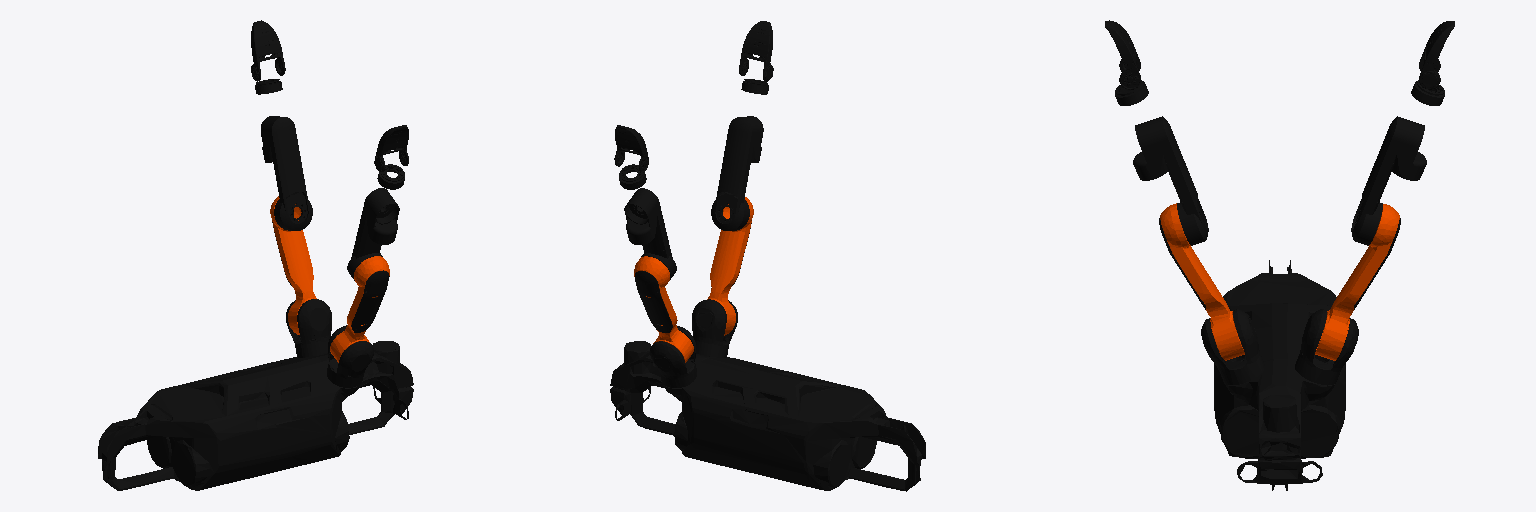
The robot description file, URDF, robot "kyon":
<?xml version="1.0" ?>
<!-- =================================================================================== -->
<!-- |    This document was autogenerated by xacro from kyon.urdf.xacro                | -->
<!-- |    EDITING THIS FILE BY HAND IS NOT RECOMMENDED                                 | -->
<!-- =================================================================================== -->
<robot name="kyon">
  <!-- scaling factor for available peack torque link side, from 0 to 1 -->
  <material name="black">
    <color rgba="0.4 0.4 0.4 1"/>
  </material>
  <material name="dark_grey">
    <color rgba="0.1 0.1 0.1 1"/>
  </material>
  <material name="light_grey">
    <color rgba="0.2 0.2 0.2 1"/>
  </material>
  <material name="kyon_orange">
    <color rgba="0.925 0.325 0.0 1"/>
  </material>
  <!-- Compound properties (i.e. based on the props parsed from the yaml) -->
  <link name="base_link"/>
  <link name="pelvis">
    <inertial>
      <origin xyz="0.056500758 0.002091838 0.086799843"/>
      <mass value="19.962822"/>
      <inertia ixx="0.24817282999999998" ixy="-0.0041644587" ixz="-0.060913554999999994" iyy="1.2563811999999999" iyz="0.00024917702" izz="1.2495441"/>
    </inertial>
    <visual>
      <origin rpy="0.0 0.0 0.0" xyz="0.0 0 0.0"/>
      <geometry>
        <mesh filename="package://kyon_urdf/meshes/mesh_pelvis.stl" scale="0.001 0.001 0.001"/>
      </geometry>
      <material name="dark_grey"/>
    </visual>
    <collision>
      <origin rpy="0.0 0.0 0.0" xyz="0.0 0 0.0"/>
      <geometry>
        <mesh filename="package://kyon_urdf/meshes/collision/mesh_pelvis.stl" scale="0.001 0.001 0.001"/>
      </geometry>
    </collision>
  </link>
  <joint name="base_joint" type="fixed">
    <parent link="pelvis"/>
    <child link="base_link"/>
    <origin rpy="0 0 0" xyz="0 0 0"/>
  </joint>
  <link name="imu_link"/>
  <joint name="imu_joint" type="fixed">
    <origin rpy="3.14159265359 0 0" xyz="-0.256190 0 0.103"/>
    <parent link="pelvis"/>
    <child link="imu_link"/>
  </joint>
  <!-- /macro arms -->
  <!-- LINKS -->
  <!-- shoulder yaw -->
  <link name="shoulder_yaw_1_link">
    <inertial>
      <origin xyz="-0.00036680683 -0.00091946646 0.039513613999999996"/>
      <mass value="0.68281255"/>
      <inertia ixx="0.0024646423" ixy="6.777069799999999e-07" ixz="-7.4060192e-06" iyy="0.0019177419999999998" iyz="-3.9949027e-05" izz="0.0019116331999999999"/>
    </inertial>
    <visual>
      <origin rpy="0.0 0.0 0.0" xyz="0.0 0.0 0.0"/>
      <geometry>
        <mesh filename="package://kyon_urdf/meshes/mesh_sh-yaw.stl" scale="0.001 0.001 0.001"/>
      </geometry>
      <material name="dark_grey"/>
    </visual>
    <collision>
      <origin rpy="0.0 0.0 0.0" xyz="0.0 0.0 0.0"/>
      <geometry>
        <mesh filename="package://kyon_urdf/meshes/collision/mesh_sh-yaw.stl" scale="0.001 0.001 0.001"/>
      </geometry>
    </collision>
  </link>
  <link name="shoulder_pitch_1_link">
    <inertial>
      <origin xyz="-7.458544400000001e-06 -0.14775681000000002 -0.0017955048000000001"/>
      <mass value="2.6972599"/>
      <inertia ixx="0.061239751999999995" ixy="-1.9752319e-05" ixz="-5.9550041e-06" iyy="0.0032676404999999998" iyz="-0.00040271622999999996" izz="0.06110526"/>
    </inertial>
    <visual>
      <geometry>
        <mesh filename="package://kyon_urdf/meshes/mesh_sh-pitch_cover.stl" scale="0.001 0.001 0.001"/>
      </geometry>
      <material name="dark_grey"/>
    </visual>
    <visual>
      <geometry>
        <mesh filename="package://kyon_urdf/meshes/mesh_sh-pitch.stl" scale="0.001 0.001 0.001"/>
      </geometry>
      <material name="kyon_orange"/>
    </visual>
    <collision>
      <geometry>
        <mesh filename="package://kyon_urdf/meshes/collision/mesh_sh-pitch.stl" scale="0.001 0.001 0.001"/>
      </geometry>
      <material name="kyon_orange"/>
    </collision>
  </link>
  <link name="elbow_pitch_1_link">
    <inertial>
      <origin xyz="-0.00032761312 -0.16511035000000002 0.022799378000000002"/>
      <mass value="1.048477"/>
      <inertia ixx="0.01112601" ixy="1.7724864e-05" ixz="6.0670899e-06" iyy="0.00095730481" iyz="-0.0010167295" izz="0.011293245999999998"/>
    </inertial>
    <visual>
      <geometry>
        <mesh filename="package://kyon_urdf/meshes/mesh_elbow.stl" scale="0.001 0.001 0.001"/>
      </geometry>
      <material name="dark_grey"/>
    </visual>
    <collision>
      <geometry>
        <mesh filename="package://kyon_urdf/meshes/mesh_elbow.stl" scale="0.001 0.001 0.001"/>
      </geometry>
    </collision>
  </link>
  <link name="wrist_pitch_1_link">
    <inertial>
      <origin xyz="-0.00035889305999999997 -0.056046555 -0.010441123"/>
      <mass value="0.8276976"/>
      <inertia ixx="0.001897925" ixy="1.5812979999999998e-05" ixz="-8.8320155e-06" iyy="0.0007269340299999999" iyz="0.00044823507999999996" izz="0.0018533680999999998"/>
    </inertial>
    <visual>
      <origin rpy="0.0 0.0 0.0" xyz="0.0 0.0 0.0"/>
      <geometry>
        <mesh filename="package://kyon_urdf/meshes/mesh_wrist-pitch.stl" scale="0.001 0.001 0.001"/>
      </geometry>
      <material name="dark_grey"/>
    </visual>
    <collision>
      <origin rpy="0.0 0.0 0.0" xyz="0.0 0.0 0.0"/>
      <geometry>
        <mesh filename="package://kyon_urdf/meshes/collision/mesh_wrist-pitch.stl" scale="0.001 0.001 0.001"/>
      </geometry>
    </collision>
  </link>
  <link name="wrist_yaw_1_link">
    <inertial>
      <origin xyz="8.3852847e-05 0.0005684798500000001 -0.018794291"/>
      <mass value="0.13163366"/>
      <inertia ixx="7.7640101e-05" ixy="-6.2563895e-07" ixz="-1.2366562e-07" iyy="7.791881799999999e-05" iyz="8.839218099999999e-07" izz="0.00012246055"/>
    </inertial>
    <visual>
      <origin rpy="0.0 0.0 0.0" xyz="0.0 0.0 0.0"/>
      <geometry>
        <mesh filename="package://kyon_urdf/meshes/mesh_wrist-yaw.stl" scale="0.001 0.001 0.001"/>
      </geometry>
      <material name="dark_grey"/>
    </visual>
    <collision>
      <origin rpy="0.0 0.0 0.0" xyz="0.0 0.0 0.0"/>
      <geometry>
        <mesh filename="package://kyon_urdf/meshes/collision/mesh_wrist-yaw.stl" scale="0.001 0.001 0.001"/>
      </geometry>
    </collision>
  </link>
  <!-- /LINKS -->
  <!-- JOINTS -->
  <!-- shoulder yaw -->
  <joint name="shoulder_yaw_1" type="revolute">
    <parent link="pelvis"/>
    <child link="shoulder_yaw_1_link"/>
    <origin rpy="-0.3490656 0.0 0.0" xyz="0.28 0.0998258 0.203238"/>
    <axis xyz="0 0 -1"/>
    <limit effort="146" lower="-3.312" upper="3.312" velocity="3.8"/>
  </joint>
  <!-- arm pitch 1 -->
  <joint name="shoulder_pitch_1" type="revolute">
    <parent link="shoulder_yaw_1_link"/>
    <child link="shoulder_pitch_1_link"/>
    <origin rpy="-1.57079632679 0.0 -3.14159265358" xyz="0.0 0.0 0.0735"/>
    <axis xyz="0 0 1"/>
    <limit effort="122" lower="-3" upper="3" velocity="4.6"/>
  </joint>
  <joint name="elbow_pitch_1" type="revolute">
    <parent link="shoulder_pitch_1_link"/>
    <child link="elbow_pitch_1_link"/>
    <origin rpy="0.0 0.0 0.0" xyz="0.0 -0.32 0.0"/>
    <axis xyz="0 0 -1"/>
    <limit effort="122" lower="-3" upper="3" velocity="4.6"/>
  </joint>
  <joint name="wrist_pitch_1" type="revolute">
    <parent link="elbow_pitch_1_link"/>
    <child link="wrist_pitch_1_link"/>
    <origin rpy="0.0 0.0 0.0" xyz="0.0 -0.25 0.0"/>
    <axis xyz="0 0 -1"/>
    <limit effort="25" lower="-2.4056" upper="2.4056" velocity="14"/>
  </joint>
  <joint name="wrist_yaw_1" type="revolute">
    <parent link="wrist_pitch_1_link"/>
    <child link="wrist_yaw_1_link"/>
    <origin rpy="1.57079632679 0.0 0.0" xyz="0.0 -0.13861199999999999 0.0"/>
    <axis xyz="0 0 1"/>
    <limit effort="25" lower="-2.4056" upper="2.4056" velocity="14"/>
  </joint>
  <link name="dagana_1_base">
    <inertial>
      <origin xyz="-0.004224466600000001 -0.0027238215 0.053670845"/>
      <mass value="0.96534359"/>
      <inertia ixx="0.0020957096" ixy="-6.455410899999999e-05" ixz="4.4955880999999996e-05" iyy="0.0021216529" iyz="0.00037094612999999995" izz="0.0011572224"/>
    </inertial>
    <visual>
      <origin rpy="0.0 0.0 0.0" xyz="0.0 0.0 0.0"/>
      <geometry>
        <mesh filename="package://kyon_urdf/meshes/mesh_dagana-base.stl" scale="0.001 0.001 0.001"/>
      </geometry>
      <material name="dark_grey"/>
    </visual>
    <collision>
      <origin rpy="0.0 0.0 0.0" xyz="0.0 0.0 0.0"/>
      <geometry>
        <mesh filename="package://kyon_urdf/meshes/collision/mesh_dagana-base-simplified.stl" scale="0.001 0.001 0.001"/>
      </geometry>
    </collision>
    <collision>
      <origin rpy="0.0 0.0 0.0" xyz="0.0 0.0 0.0"/>
      <geometry>
        <mesh filename="package://kyon_urdf/meshes/collision/mesh_dagana-base-base-simplified.stl" scale="0.001 0.001 0.001"/>
      </geometry>
    </collision>
  </link>
  <link name="dagana_1_claw">
    <inertial>
      <origin xyz="-0.0516203 0.0080601187 -0.037212096"/>
      <mass value="0.25739835"/>
      <inertia ixx="0.00029169897" ixy="8.3015178e-06" ixz="1.3355847e-05" iyy="0.00073268589" iyz="-2.1083033000000003e-06" izz="0.00051112938"/>
    </inertial>
    <visual>
      <origin rpy="0.0 0.0 0.0" xyz="0.0 0.0 0.0"/>
      <geometry>
        <mesh filename="package://kyon_urdf/meshes/mesh_dagana-clamp.stl" scale="0.001 0.001 0.001"/>
      </geometry>
      <material name="dark_grey"/>
    </visual>
    <collision>
      <origin rpy="0.0 0.0 0.0" xyz="0.0 0.0 0.0"/>
      <geometry>
        <mesh filename="package://kyon_urdf/meshes/collision/mesh_dagana-clamp-base-simplified.stl" scale="0.001 0.001 0.001"/>
      </geometry>
    </collision>
    <collision>
      <origin rpy="0.0 0.0 0.0" xyz="0.0 0.0 0.0"/>
      <geometry>
        <mesh filename="package://kyon_urdf/meshes/collision/mesh_dagana-clamp-simplified.stl" scale="0.001 0.001 0.001"/>
      </geometry>
    </collision>
  </link>
  <joint name="dagana_1_base_joint" type="fixed">
    <parent link="wrist_yaw_1_link"/>
    <child link="dagana_1_base"/>
    <origin rpy="0.0 0.0 0.0" xyz="0.0 0.0 0.0"/>
  </joint>
  <joint name="dagana_1_clamp_joint" type="revolute">
    <parent link="dagana_1_base"/>
    <child link="dagana_1_claw"/>
    <origin rpy="0.0 1.57079632679 0.0" xyz="0.0361625 0.016 0.044"/>
    <axis xyz="0 0 1"/>
    <limit effort="25" lower="-3.4056" upper="3.4056" velocity="14"/>
  </joint>
  <!-- LINKS -->
  <!-- shoulder yaw -->
  <link name="shoulder_yaw_2_link">
    <inertial>
      <origin xyz="-0.00036680683 -0.00091946646 0.039513613999999996"/>
      <mass value="0.68281255"/>
      <inertia ixx="0.0024646423" ixy="6.777069799999999e-07" ixz="-7.4060192e-06" iyy="0.0019177419999999998" iyz="-3.9949027e-05" izz="0.0019116331999999999"/>
    </inertial>
    <visual>
      <origin rpy="0.0 0.0 0.0" xyz="0.0 0.0 0.0"/>
      <geometry>
        <mesh filename="package://kyon_urdf/meshes/mesh_sh-yaw.stl" scale="0.001 0.001 0.001"/>
      </geometry>
      <material name="dark_grey"/>
    </visual>
    <collision>
      <origin rpy="0.0 0.0 0.0" xyz="0.0 0.0 0.0"/>
      <geometry>
        <mesh filename="package://kyon_urdf/meshes/collision/mesh_sh-yaw.stl" scale="0.001 0.001 0.001"/>
      </geometry>
    </collision>
  </link>
  <link name="shoulder_pitch_2_link">
    <inertial>
      <origin xyz="-7.458544400000001e-06 -0.14775681000000002 -0.0017955048000000001"/>
      <mass value="2.6972599"/>
      <inertia ixx="0.061239751999999995" ixy="-1.9752319e-05" ixz="-5.9550041e-06" iyy="0.0032676404999999998" iyz="-0.00040271622999999996" izz="0.06110526"/>
    </inertial>
    <visual>
      <geometry>
        <mesh filename="package://kyon_urdf/meshes/mesh_sh-pitch_cover.stl" scale="0.001 0.001 0.001"/>
      </geometry>
      <material name="dark_grey"/>
    </visual>
    <visual>
      <geometry>
        <mesh filename="package://kyon_urdf/meshes/mesh_sh-pitch.stl" scale="0.001 0.001 0.001"/>
      </geometry>
      <material name="kyon_orange"/>
    </visual>
    <collision>
      <geometry>
        <mesh filename="package://kyon_urdf/meshes/collision/mesh_sh-pitch.stl" scale="0.001 0.001 0.001"/>
      </geometry>
      <material name="kyon_orange"/>
    </collision>
  </link>
  <link name="elbow_pitch_2_link">
    <inertial>
      <origin xyz="-0.00032761312 -0.16511035000000002 0.022799378000000002"/>
      <mass value="1.048477"/>
      <inertia ixx="0.01112601" ixy="1.7724864e-05" ixz="6.0670899e-06" iyy="0.00095730481" iyz="-0.0010167295" izz="0.011293245999999998"/>
    </inertial>
    <visual>
      <geometry>
        <mesh filename="package://kyon_urdf/meshes/mesh_elbow.stl" scale="0.001 0.001 0.001"/>
      </geometry>
      <material name="dark_grey"/>
    </visual>
    <collision>
      <geometry>
        <mesh filename="package://kyon_urdf/meshes/mesh_elbow.stl" scale="0.001 0.001 0.001"/>
      </geometry>
    </collision>
  </link>
  <link name="wrist_pitch_2_link">
    <inertial>
      <origin xyz="-0.00035889305999999997 -0.056046555 -0.010441123"/>
      <mass value="0.8276976"/>
      <inertia ixx="0.001897925" ixy="1.5812979999999998e-05" ixz="-8.8320155e-06" iyy="0.0007269340299999999" iyz="0.00044823507999999996" izz="0.0018533680999999998"/>
    </inertial>
    <visual>
      <origin rpy="0.0 0.0 0.0" xyz="0.0 0.0 0.0"/>
      <geometry>
        <mesh filename="package://kyon_urdf/meshes/mesh_wrist-pitch.stl" scale="0.001 0.001 0.001"/>
      </geometry>
      <material name="dark_grey"/>
    </visual>
    <collision>
      <origin rpy="0.0 0.0 0.0" xyz="0.0 0.0 0.0"/>
      <geometry>
        <mesh filename="package://kyon_urdf/meshes/collision/mesh_wrist-pitch.stl" scale="0.001 0.001 0.001"/>
      </geometry>
    </collision>
  </link>
  <link name="wrist_yaw_2_link">
    <inertial>
      <origin xyz="8.3852847e-05 0.0005684798500000001 -0.018794291"/>
      <mass value="0.13163366"/>
      <inertia ixx="7.7640101e-05" ixy="-6.2563895e-07" ixz="-1.2366562e-07" iyy="7.791881799999999e-05" iyz="8.839218099999999e-07" izz="0.00012246055"/>
    </inertial>
    <visual>
      <origin rpy="0.0 0.0 0.0" xyz="0.0 0.0 0.0"/>
      <geometry>
        <mesh filename="package://kyon_urdf/meshes/mesh_wrist-yaw.stl" scale="0.001 0.001 0.001"/>
      </geometry>
      <material name="dark_grey"/>
    </visual>
    <collision>
      <origin rpy="0.0 0.0 0.0" xyz="0.0 0.0 0.0"/>
      <geometry>
        <mesh filename="package://kyon_urdf/meshes/collision/mesh_wrist-yaw.stl" scale="0.001 0.001 0.001"/>
      </geometry>
    </collision>
  </link>
  <!-- /LINKS -->
  <!-- JOINTS -->
  <!-- shoulder yaw -->
  <joint name="shoulder_yaw_2" type="revolute">
    <parent link="pelvis"/>
    <child link="shoulder_yaw_2_link"/>
    <origin rpy="0.3490656 0.0 0.0" xyz="0.28 -0.0998258 0.203238"/>
    <axis xyz="0 0 -1"/>
    <limit effort="146" lower="-3.3458" upper="3.3458" velocity="3.8"/>
  </joint>
  <!-- arm pitch 1 -->
  <joint name="shoulder_pitch_2" type="revolute">
    <parent link="shoulder_yaw_2_link"/>
    <child link="shoulder_pitch_2_link"/>
    <origin rpy="-1.57079632679 0.0 0.0" xyz="0.0 0.0 0.0735"/>
    <axis xyz="0 0 1"/>
    <limit effort="122" lower="-3" upper="3" velocity="4.6"/>
  </joint>
  <joint name="elbow_pitch_2" type="revolute">
    <parent link="shoulder_pitch_2_link"/>
    <child link="elbow_pitch_2_link"/>
    <origin rpy="0.0 0.0 0.0" xyz="0.0 -0.32 0.0"/>
    <axis xyz="0 0 -1"/>
    <limit effort="122" lower="-3" upper="3" velocity="4.6"/>
  </joint>
  <joint name="wrist_pitch_2" type="revolute">
    <parent link="elbow_pitch_2_link"/>
    <child link="wrist_pitch_2_link"/>
    <origin rpy="0.0 0.0 0.0" xyz="0.0 -0.25 0.0"/>
    <axis xyz="0 0 -1"/>
    <limit effort="25" lower="-2.3266" upper="2.3266" velocity="14"/>
  </joint>
  <joint name="wrist_yaw_2" type="revolute">
    <parent link="wrist_pitch_2_link"/>
    <child link="wrist_yaw_2_link"/>
    <origin rpy="1.57079632679 0.0 0.0" xyz="0.0 -0.13861199999999999 0.0"/>
    <axis xyz="0 0 1"/>
    <limit effort="25" lower="-2.3266" upper="2.3266" velocity="14"/>
  </joint>
  <link name="dagana_2_base">
    <inertial>
      <origin xyz="-0.004224466600000001 -0.0027238215 0.053670845"/>
      <mass value="0.96534359"/>
      <inertia ixx="0.0020957096" ixy="-6.455410899999999e-05" ixz="4.4955880999999996e-05" iyy="0.0021216529" iyz="0.00037094612999999995" izz="0.0011572224"/>
    </inertial>
    <visual>
      <origin rpy="0.0 0.0 0.0" xyz="0.0 0.0 0.0"/>
      <geometry>
        <mesh filename="package://kyon_urdf/meshes/mesh_dagana-base.stl" scale="0.001 0.001 0.001"/>
      </geometry>
      <material name="dark_grey"/>
    </visual>
    <collision>
      <origin rpy="0.0 0.0 0.0" xyz="0.0 0.0 0.0"/>
      <geometry>
        <mesh filename="package://kyon_urdf/meshes/collision/mesh_dagana-base-simplified.stl" scale="0.001 0.001 0.001"/>
      </geometry>
    </collision>
    <collision>
      <origin rpy="0.0 0.0 0.0" xyz="0.0 0.0 0.0"/>
      <geometry>
        <mesh filename="package://kyon_urdf/meshes/collision/mesh_dagana-base-base-simplified.stl" scale="0.001 0.001 0.001"/>
      </geometry>
    </collision>
  </link>
  <link name="dagana_2_claw">
    <inertial>
      <origin xyz="-0.0516203 0.0080601187 -0.037212096"/>
      <mass value="0.25739835"/>
      <inertia ixx="0.00029169897" ixy="8.3015178e-06" ixz="1.3355847e-05" iyy="0.00073268589" iyz="-2.1083033000000003e-06" izz="0.00051112938"/>
    </inertial>
    <visual>
      <origin rpy="0.0 0.0 0.0" xyz="0.0 0.0 0.0"/>
      <geometry>
        <mesh filename="package://kyon_urdf/meshes/mesh_dagana-clamp.stl" scale="0.001 0.001 0.001"/>
      </geometry>
      <material name="dark_grey"/>
    </visual>
    <collision>
      <origin rpy="0.0 0.0 0.0" xyz="0.0 0.0 0.0"/>
      <geometry>
        <mesh filename="package://kyon_urdf/meshes/collision/mesh_dagana-clamp-base-simplified.stl" scale="0.001 0.001 0.001"/>
      </geometry>
    </collision>
    <collision>
      <origin rpy="0.0 0.0 0.0" xyz="0.0 0.0 0.0"/>
      <geometry>
        <mesh filename="package://kyon_urdf/meshes/collision/mesh_dagana-clamp-simplified.stl" scale="0.001 0.001 0.001"/>
      </geometry>
    </collision>
  </link>
  <joint name="dagana_2_base_joint" type="fixed">
    <parent link="wrist_yaw_2_link"/>
    <child link="dagana_2_base"/>
    <origin rpy="0.0 0.0 0.0" xyz="0.0 0.0 0.0"/>
  </joint>
  <joint name="dagana_2_clamp_joint" type="revolute">
    <parent link="dagana_2_base"/>
    <child link="dagana_2_claw"/>
    <origin rpy="0.0 1.57079632679 0.0" xyz="0.0361625 0.016 0.044"/>
    <axis xyz="0 0 1"/>
    <limit effort="25" lower="-3.3266" upper="3.3266" velocity="14"/>
  </joint>
  <!-- ************ Control frames ************ -->
  <!--xacro:include filename="$(find pholus_urdf)/urdf/control_frames.urdf.xacro"/-->
  <link name="world"/>
  <joint name="reference" type="floating">
    <parent link="world"/>
    <child link="pelvis"/>
    <origin xyz="0 0 0.6"/>
  </joint>
</robot>

--- What the picture shows (computed from the rendered views, not written in the file) ---
The picture shows the robot from 3 angles, left to right: view 1: azimuth 30°, elevation 25°; view 2: azimuth 150°, elevation 25°; view 3: azimuth 270°, elevation 25°; orthographic projection.
Model kyon with 18 links and 17 joints (12 revolute, 4 fixed, 1 floating), rooted at world, posed all joints at 0.
Visible links, largest first — view 1: pelvis, elbow_pitch_1_link, shoulder_pitch_2_link, shoulder_pitch_1_link, shoulder_yaw_1_link, shoulder_yaw_2_link, wrist_pitch_2_link, dagana_1_claw, elbow_pitch_2_link, dagana_2_claw; view 2: pelvis, elbow_pitch_2_link, shoulder_pitch_1_link, shoulder_pitch_2_link, shoulder_yaw_2_link, shoulder_yaw_1_link, wrist_pitch_1_link, dagana_2_claw, elbow_pitch_1_link, dagana_1_claw; view 3: pelvis, shoulder_pitch_1_link, shoulder_pitch_2_link, elbow_pitch_1_link, elbow_pitch_2_link, shoulder_yaw_2_link, shoulder_yaw_1_link, wrist_pitch_1_link, wrist_pitch_2_link, dagana_2_claw, dagana_1_claw, wrist_yaw_1_link (+1 smaller).
Boxes of the visible links, bbox=[...] form: pelvis: bbox=[98, 341, 413, 490]; elbow_pitch_1_link: bbox=[265, 116, 312, 230]; shoulder_pitch_2_link: bbox=[330, 256, 389, 362]; shoulder_pitch_1_link: bbox=[270, 196, 316, 334]; shoulder_yaw_1_link: bbox=[286, 299, 331, 357]; shoulder_yaw_2_link: bbox=[327, 325, 373, 387]; wrist_pitch_2_link: bbox=[367, 192, 399, 244]; dagana_1_claw: bbox=[251, 20, 285, 81]; elbow_pitch_2_link: bbox=[347, 188, 391, 280]; dagana_2_claw: bbox=[374, 125, 408, 171]; pelvis: bbox=[610, 341, 925, 491]; elbow_pitch_2_link: bbox=[711, 117, 758, 230]; shoulder_pitch_1_link: bbox=[634, 256, 693, 362]; shoulder_pitch_2_link: bbox=[707, 197, 753, 335]; shoulder_yaw_2_link: bbox=[692, 299, 737, 357]; shoulder_yaw_1_link: bbox=[650, 326, 696, 387]; wrist_pitch_1_link: bbox=[624, 192, 656, 244]; dagana_2_claw: bbox=[739, 21, 773, 81]; elbow_pitch_1_link: bbox=[631, 188, 676, 279]; dagana_1_claw: bbox=[614, 125, 648, 171]; pelvis: bbox=[1214, 260, 1345, 490]; shoulder_pitch_1_link: bbox=[1315, 204, 1400, 360]; shoulder_pitch_2_link: bbox=[1159, 203, 1244, 360]; elbow_pitch_1_link: bbox=[1351, 116, 1413, 245]; elbow_pitch_2_link: bbox=[1146, 116, 1208, 245]; shoulder_yaw_2_link: bbox=[1201, 309, 1264, 384]; shoulder_yaw_1_link: bbox=[1295, 309, 1358, 385]; wrist_pitch_1_link: bbox=[1392, 119, 1426, 180]; wrist_pitch_2_link: bbox=[1133, 119, 1167, 180]; dagana_2_claw: bbox=[1105, 20, 1140, 89]; dagana_1_claw: bbox=[1419, 21, 1454, 89]; wrist_yaw_1_link: bbox=[1411, 80, 1444, 105].
Bounding box of the posed robot: 1.04 × 0.8596 × 1.19 m (x, y, z).
Meshes: 9 distinct files referenced, 15 mesh visuals loaded (8 binary STL); not drawn: 2 (reference not matched to a file when rendering).
